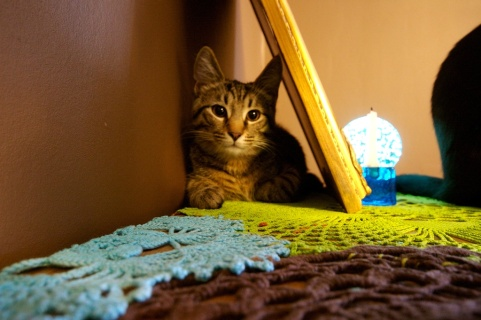Cat: (179, 45, 322, 210)
